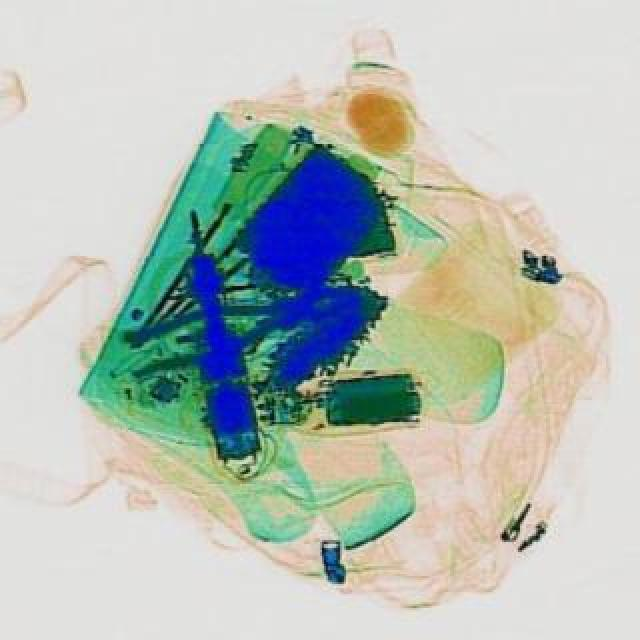wrench: (120, 278, 352, 388)
